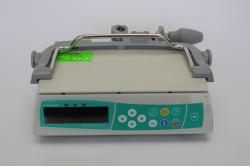BBraun Infusomat Space: (21, 26, 222, 145)
